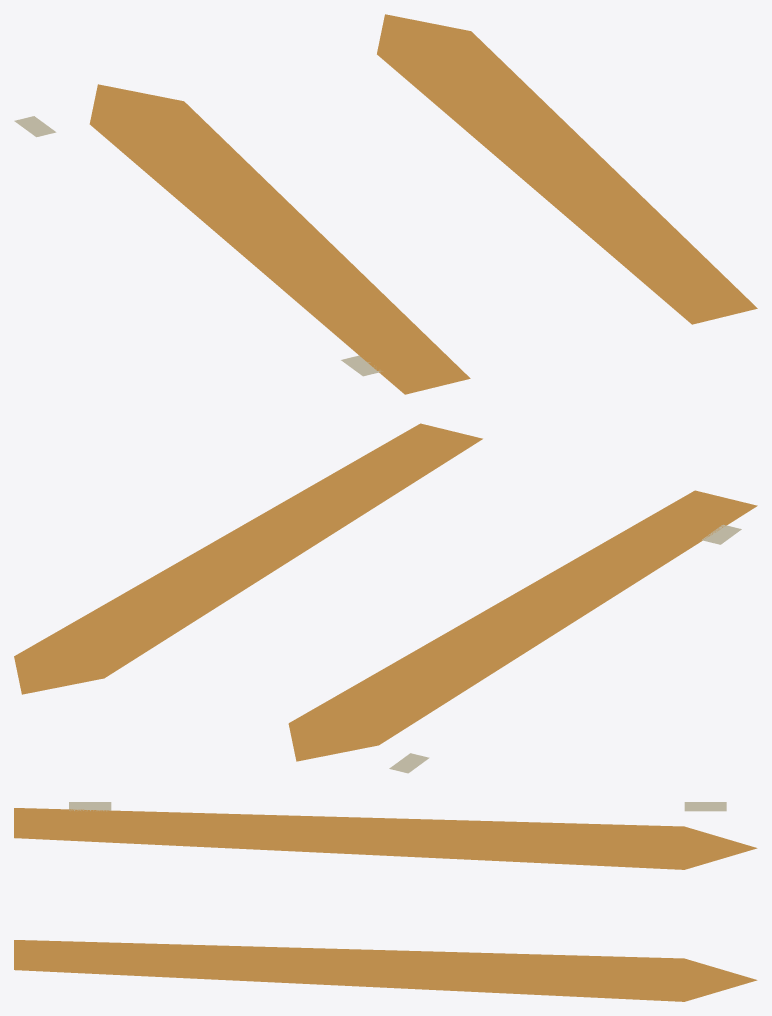
File: e11c-c1-dock-side-mark.glb
3 renders of one model, top to bottom at view 1: azimuth 30°, elevation 25°; view 2: azimuth 150°, elevation 25°; view 3: azimuth 270°, elevation 25°, orthographic. The views are drawn at different scales.
Parts seen in each view (by area): view 1: e11c-c1-dock-side-mark; view 2: e11c-c1-dock-side-mark; view 3: e11c-c1-dock-side-mark.
Boxes of the visible parts, <box> form: e11c-c1-dock-side-mark: <box>14,14,757,394</box>; e11c-c1-dock-side-mark: <box>14,423,757,773</box>; e11c-c1-dock-side-mark: <box>14,802,757,1001</box>.
Bounding box in the file's own units: 0.515 × 0 × 0.81.
